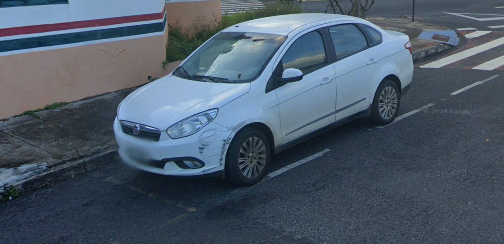car: (110, 10, 417, 188)
